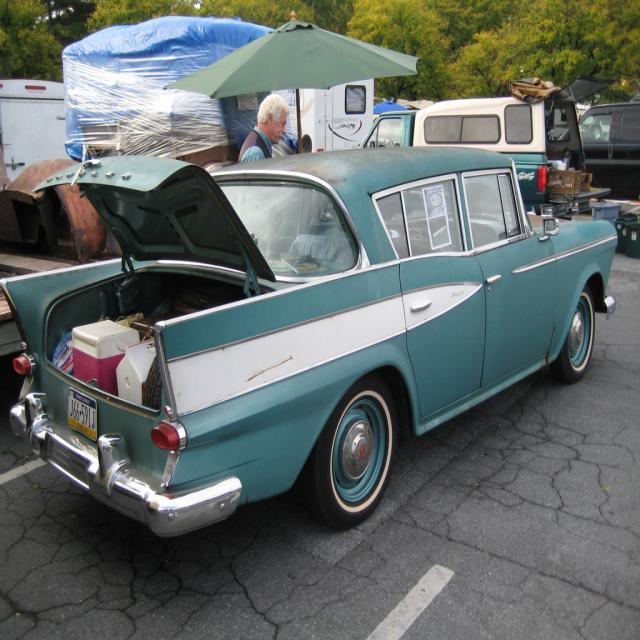car: (0, 146, 627, 567)
